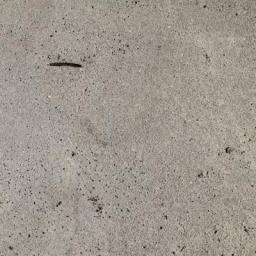FOD: (46, 61, 85, 73)
